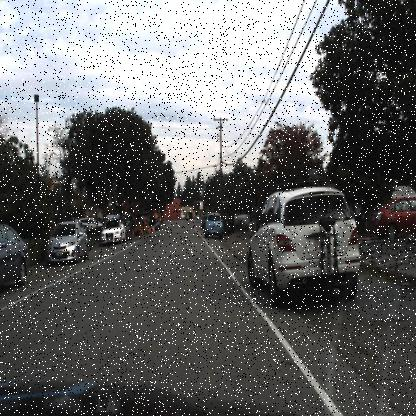car: (244, 170, 365, 310), (43, 219, 91, 268), (366, 196, 416, 240), (0, 221, 29, 293), (44, 222, 93, 263), (99, 218, 130, 245), (201, 210, 226, 237), (99, 219, 121, 244), (123, 216, 134, 240)
